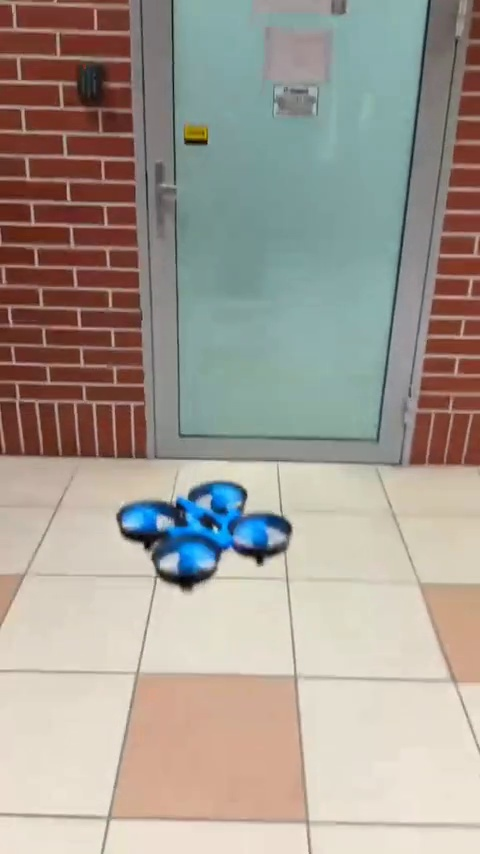drone: (122, 484, 295, 593)
